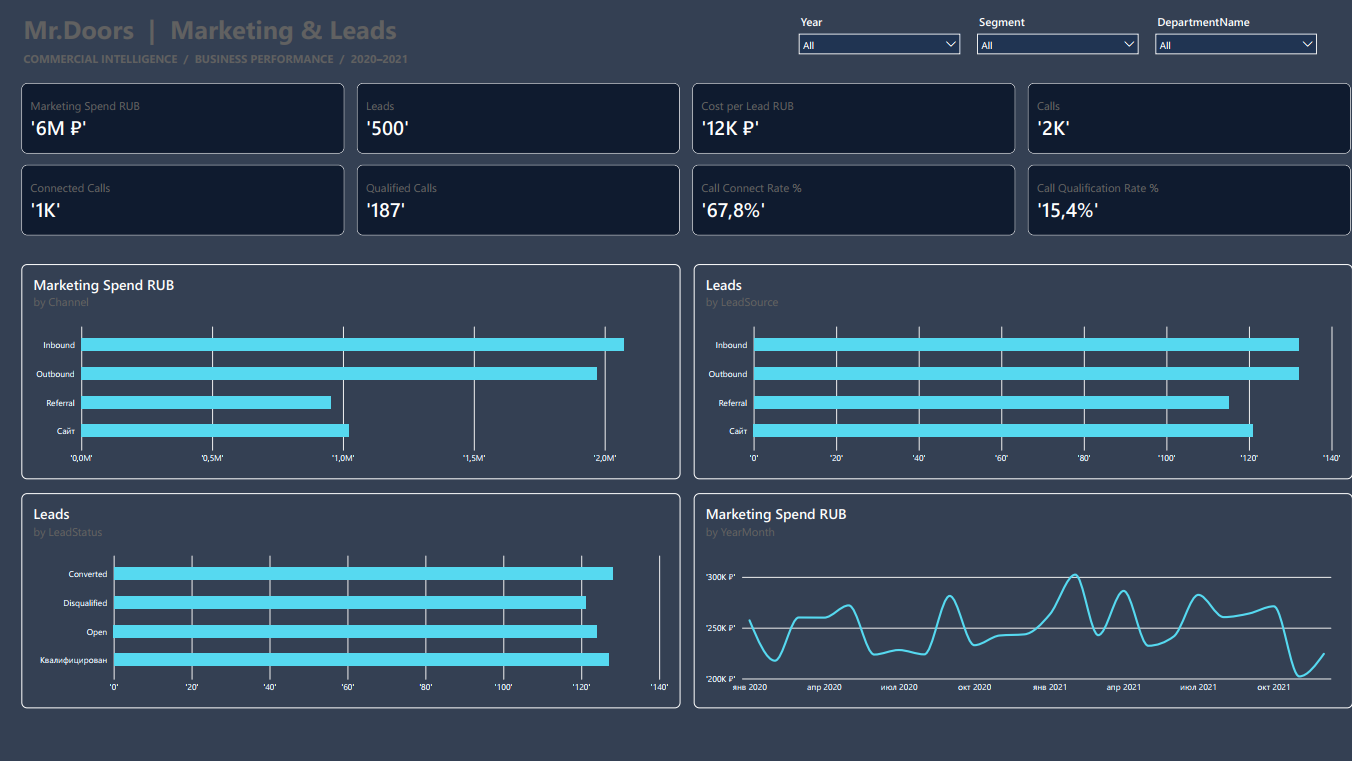

The dashboard page shown, as its layout file describes it:
{"tool":"powerbi","page":{"name":"05 | Marketing & Leads","canvas":[1920,1080],"ordinal":4},"visuals":[{"type":"slicer","fields":{"Values":["DimDate.Year"]},"box":[1130,20,239,80],"z":10},{"type":"slicer","fields":{"Values":["DimCustomer.Segment"]},"box":[1383,20,239,80],"z":10},{"type":"slicer","fields":{"Values":["DimDepartment.DepartmentName"]},"box":[1636,20,239,80],"z":10},{"type":"cardVisual","fields":{"Data":["FactSales.Marketing Spend RUB"]},"box":[32,118,458,100],"z":10},{"type":"cardVisual","fields":{"Data":["FactSales.Leads"]},"box":[508,118,458,100],"z":10},{"type":"cardVisual","fields":{"Data":["FactSales.Cost per Lead RUB"]},"box":[984,118,458,100],"z":10},{"type":"cardVisual","fields":{"Data":["FactSales.Calls"]},"box":[1460,118,458,100],"z":10},{"type":"cardVisual","fields":{"Data":["FactSales.Connected Calls"]},"box":[32,234,458,100],"z":10},{"type":"cardVisual","fields":{"Data":["FactSales.Qualified Calls"]},"box":[508,234,458,100],"z":10},{"type":"cardVisual","fields":{"Data":["FactSales.Call Connect Rate %"]},"box":[984,234,458,100],"z":10},{"type":"cardVisual","fields":{"Data":["FactSales.Call Qualification Rate %"]},"box":[1460,234,458,100],"z":10},{"type":"clusteredBarChart","fields":{"Category":["DimCampaign.Channel"],"Y":["FactSales.Marketing Spend RUB"]},"box":[32,375,935,305],"z":10},{"type":"clusteredBarChart","fields":{"Category":["FactLeads.LeadSource"],"Y":["FactSales.Leads"]},"box":[986,375,935,305],"z":10},{"type":"clusteredBarChart","fields":{"Category":["FactLeads.LeadStatus"],"Y":["FactSales.Leads"]},"box":[32,700,935,305],"z":10},{"type":"lineChart","fields":{"Category":["DimDate.YearMonth"],"Y":["FactSales.Marketing Spend RUB"]},"box":[986,700,935,305],"z":10},{"type":"textbox","box":[35,16,1050,55],"z":15000},{"type":"textbox","box":[35,72,1050,32],"z":15000}]}

Visuals, with their boxes in screenshot pixels (x1, y1, x2, y2), scaled from the page's 1920x1080 canvas onto the 1353x761 screenshot:
slicer - DimDate.Year: [796,14,965,70]
slicer - DimCustomer.Segment: [975,14,1143,70]
slicer - DimDepartment.DepartmentName: [1153,14,1321,70]
cardVisual - FactSales.Marketing Spend RUB: [23,83,345,154]
cardVisual - FactSales.Leads: [358,83,681,154]
cardVisual - FactSales.Cost per Lead RUB: [693,83,1016,154]
cardVisual - FactSales.Calls: [1029,83,1352,154]
cardVisual - FactSales.Connected Calls: [23,165,345,235]
cardVisual - FactSales.Qualified Calls: [358,165,681,235]
cardVisual - FactSales.Call Connect Rate %: [693,165,1016,235]
cardVisual - FactSales.Call Qualification Rate %: [1029,165,1352,235]
clusteredBarChart - DimCampaign.Channel x FactSales.Marketing Spend RUB: [23,264,681,479]
clusteredBarChart - FactLeads.LeadSource x FactSales.Leads: [695,264,1352,479]
clusteredBarChart - FactLeads.LeadStatus x FactSales.Leads: [23,493,681,708]
lineChart - DimDate.YearMonth x FactSales.Marketing Spend RUB: [695,493,1352,708]
textbox: [25,11,765,50]
textbox: [25,51,765,73]
